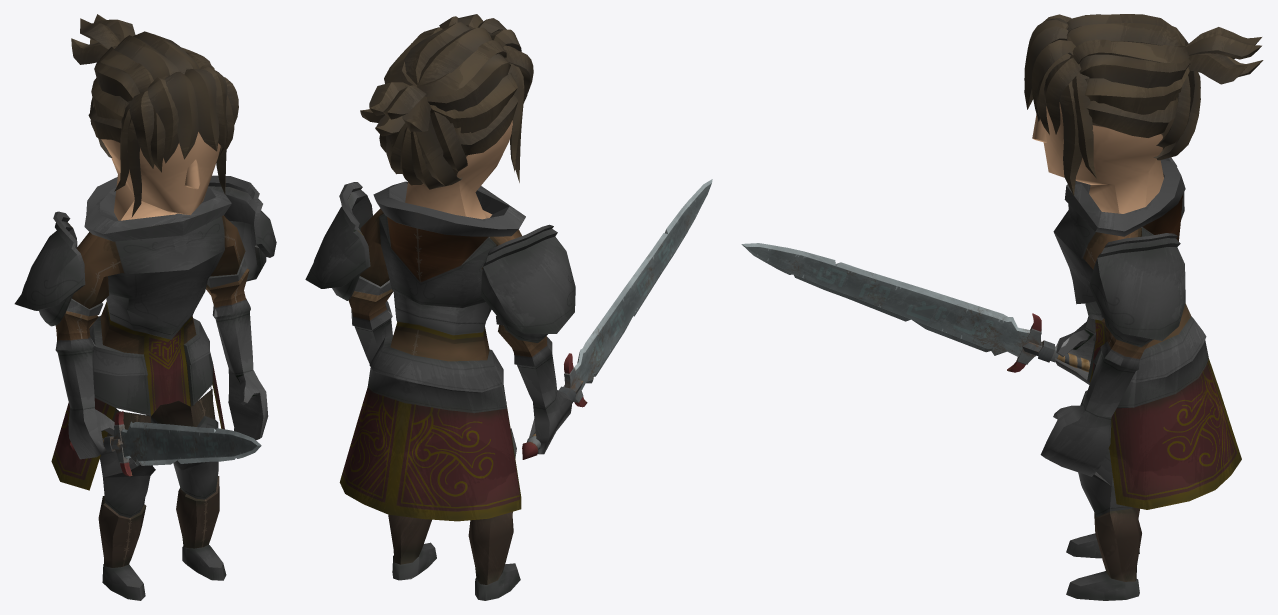
The model's file is Warrior.glb.
The picture shows the model from 3 angles, left to right: view 1: azimuth 30°, elevation 25°; view 2: azimuth 150°, elevation 25°; view 3: azimuth 270°, elevation 25°; orthographic projection. The views are drawn at different scales.
Parts seen in each view (by area): view 1: Warrior_Body__ncl1_29.005, Face__ncl1_29.002, Warrior_Sword_Cylinder.001, ShoulderPad.R__ncl1_29.001, ShoulderPad.L__ncl1_29.000; view 2: Warrior_Body__ncl1_29.005, Face__ncl1_29.002, ShoulderPad.R__ncl1_29.001, Warrior_Sword_Cylinder.001, ShoulderPad.L__ncl1_29.000; view 3: Warrior_Body__ncl1_29.005, Face__ncl1_29.002, Warrior_Sword_Cylinder.001, ShoulderPad.L__ncl1_29.000.
Part boxes in pixels (left/top/right/bottom): Warrior_Body__ncl1_29.005: left=51, top=132, right=268, bottom=600; Face__ncl1_29.002: left=71, top=14, right=238, bottom=217; Warrior_Sword_Cylinder.001: left=70, top=411, right=261, bottom=476; ShoulderPad.R__ncl1_29.001: left=14, top=211, right=85, bottom=326; ShoulderPad.L__ncl1_29.000: left=208, top=175, right=276, bottom=281; Warrior_Body__ncl1_29.005: left=339, top=120, right=572, bottom=600; Face__ncl1_29.002: left=360, top=14, right=533, bottom=189; ShoulderPad.R__ncl1_29.001: left=481, top=224, right=575, bottom=342; Warrior_Sword_Cylinder.001: left=522, top=179, right=712, bottom=459; ShoulderPad.L__ncl1_29.000: left=305, top=182, right=372, bottom=300; Warrior_Body__ncl1_29.005: left=1040, top=102, right=1241, bottom=600; Face__ncl1_29.002: left=1024, top=14, right=1263, bottom=195; Warrior_Sword_Cylinder.001: left=741, top=243, right=1090, bottom=372; ShoulderPad.L__ncl1_29.000: left=1089, top=233, right=1185, bottom=347.
Size of the model in its own units: 1.4 by 2.91 by 2.48.
2 materials, 2 textured.
